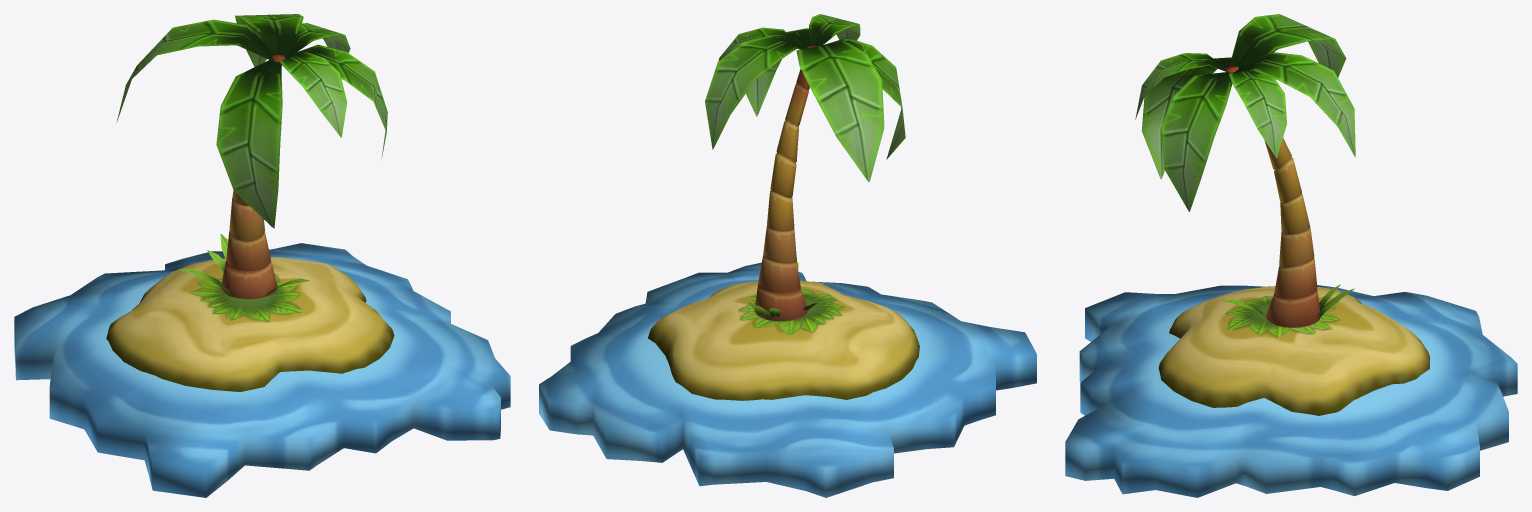
Rendered from island_stylized.glb.
3 views of the same model, side by side, from view 1: azimuth 30°, elevation 25°; view 2: azimuth 150°, elevation 25°; view 3: azimuth 270°, elevation 25° (orthographic). The views are drawn at different scales.
Parts seen in each view (by area): view 1: Grid.005_9, Sphere_6, Grid.006_10, Cylinder_7, Grid.001_1, Grid.004_3, Grid.003_2, Grid_8, Grid.002_0; view 2: Grid.005_9, Sphere_6, Grid.001_1, Cylinder_7, Grid_8, Grid.006_10, Grid.004_3, Grid.003_2, Grid.002_0; view 3: Grid.005_9, Sphere_6, Cylinder_7, Grid.003_2, Grid_8, Grid.001_1, Grid.002_0, Grid.006_10, Grid.004_3.
Part boxes in pixels (x1,y1,x2,y2): Grid.005_9: (14,243,510,497); Sphere_6: (106,257,394,391); Grid.006_10: (216,60,282,228); Cylinder_7: (221,54,285,299); Grid.001_1: (116,19,275,122); Grid.004_3: (278,52,347,137); Grid.003_2: (285,44,387,158); Grid_8: (235,14,303,66); Grid.002_0: (286,23,350,57); Grid.005_9: (539,262,1036,497); Sphere_6: (648,280,919,400); Grid.001_1: (796,41,884,181); Cylinder_7: (754,45,816,321); Grid_8: (705,35,806,149); Grid.006_10: (823,37,905,159); Grid.004_3: (809,14,860,46); Grid.003_2: (746,28,809,116); Grid.002_0: (718,27,802,60); Grid.005_9: (1065,285,1517,497); Sphere_6: (1158,286,1429,415); Cylinder_7: (1225,66,1320,327); Grid.003_2: (1161,72,1232,211); Grid_8: (1233,52,1355,157); Grid.001_1: (1229,14,1346,77); Grid.002_0: (1228,70,1286,157); Grid.006_10: (1141,57,1231,179); Grid.004_3: (1135,53,1228,119).
Size of the model in its own units: 3.01 by 2.81 by 3.18.
Materials: 1 (1 with a texture image).
